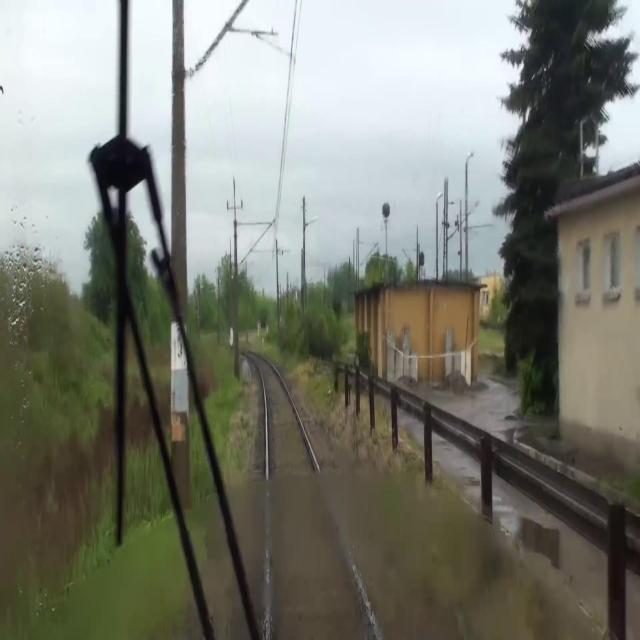rail-track: (253, 355, 377, 639)
